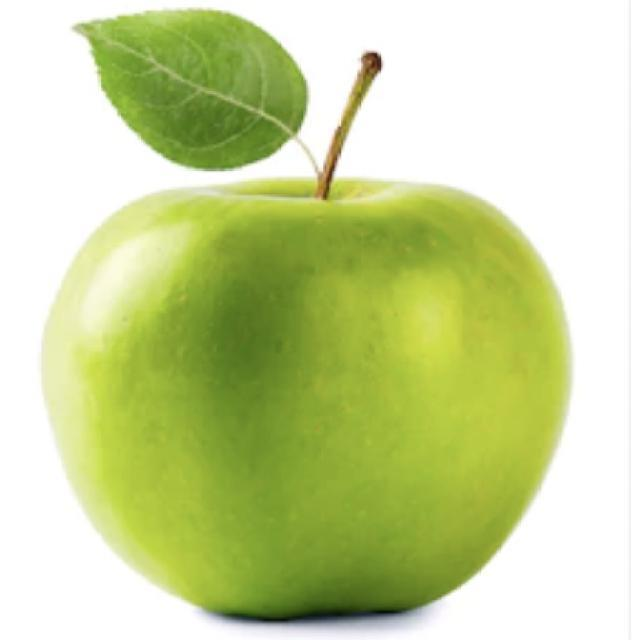Fresh Apple: (75, 182, 565, 626)
